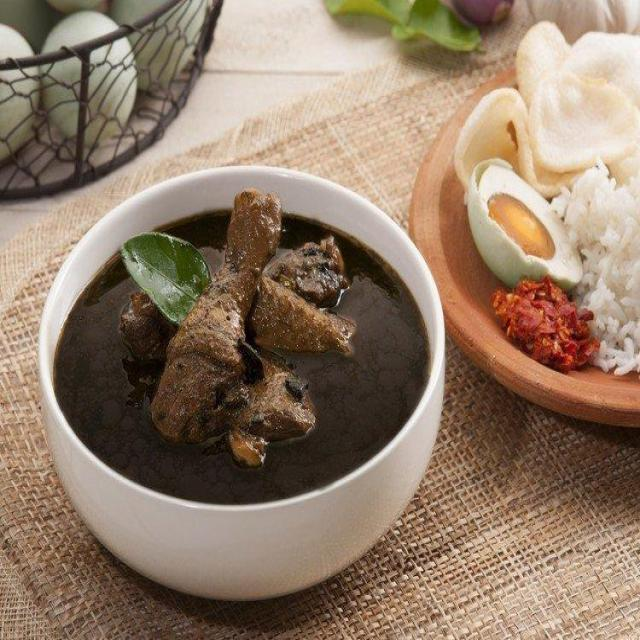Rawon: (52, 219, 424, 497)
